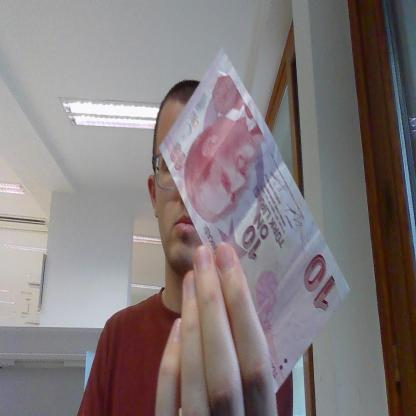5 TL: (159, 49, 349, 394)
